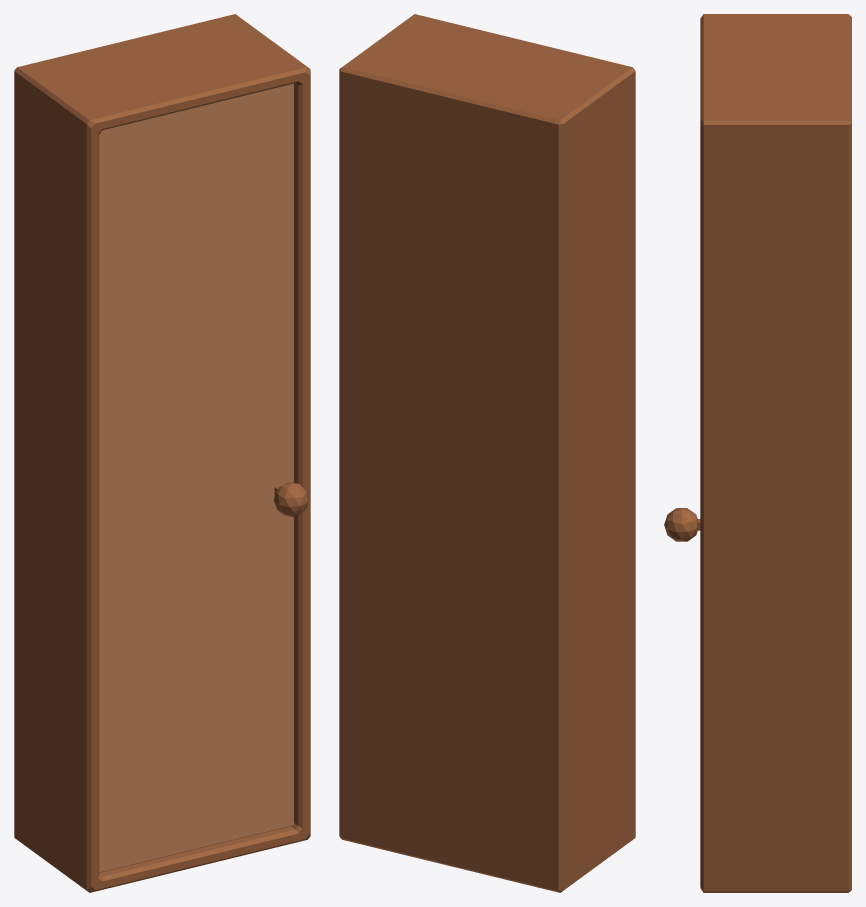
3 renders of one model, left to right at view 1: azimuth 30°, elevation 25°; view 2: azimuth 150°, elevation 25°; view 3: azimuth 270°, elevation 25°, orthographic.
Visible parts, largest first — view 1: Shelf A .002, Shelf A .001; view 2: Shelf A .001; view 3: Shelf A .001, Shelf A .002.
Boxes of the visible parts, <box> form: Shelf A .002: <box>99,83,308,872</box>; Shelf A .001: <box>14,14,310,892</box>; Shelf A .001: <box>339,14,635,892</box>; Shelf A .001: <box>700,14,851,892</box>; Shelf A .002: <box>664,508,700,541</box>.
Size of the model in its own units: 3.26 by 10.76 by 2.37.
